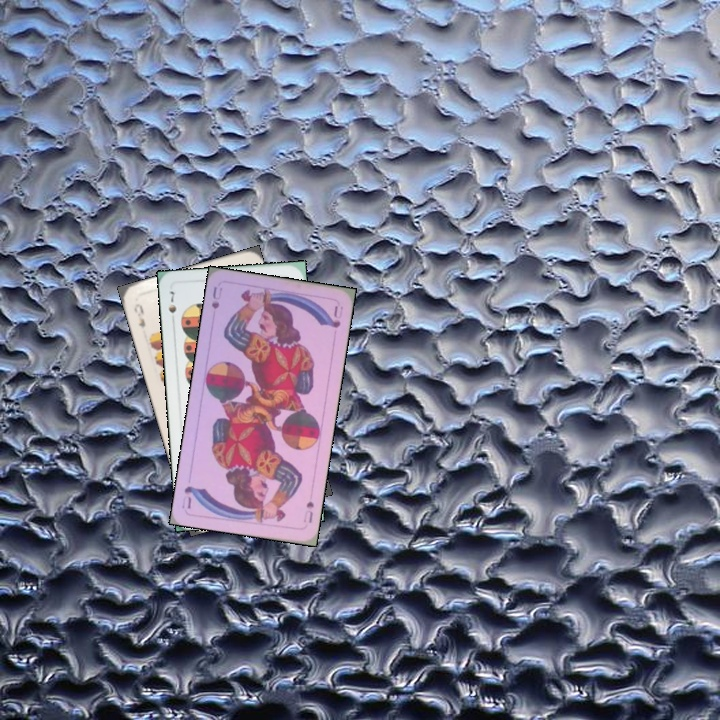E9: (130, 300, 148, 330)
S7: (164, 287, 179, 316)
SU: (207, 282, 225, 312), (299, 497, 316, 526)
